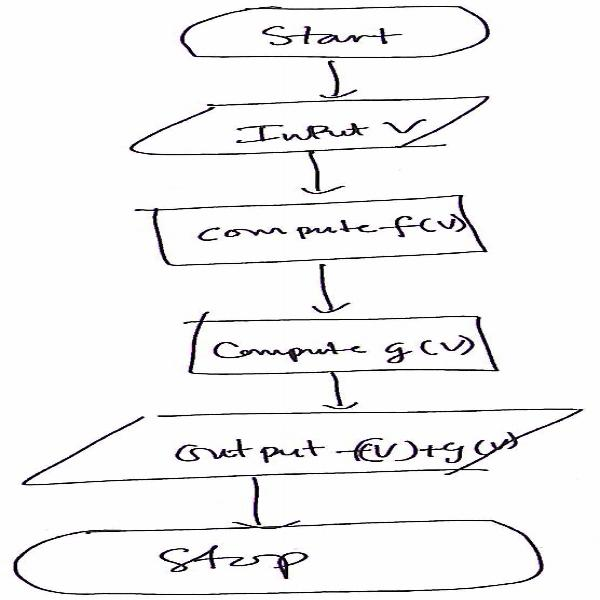arrow: (288, 56, 388, 108), (285, 147, 367, 203), (282, 262, 364, 318), (299, 368, 376, 414), (234, 479, 290, 535)
data: (2, 406, 595, 488), (105, 94, 517, 153)
process: (126, 192, 502, 268), (170, 311, 511, 377)
terminator: (8, 522, 566, 600), (159, 0, 500, 61)
text: (192, 212, 486, 248), (173, 437, 546, 464), (209, 330, 482, 366), (141, 542, 350, 580), (238, 116, 459, 148), (238, 17, 422, 50)
